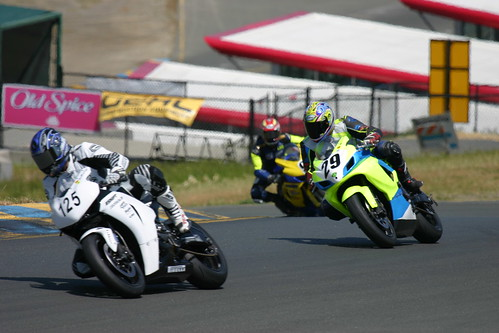helmet: (26, 122, 76, 180), (298, 98, 333, 141), (255, 112, 287, 147)
